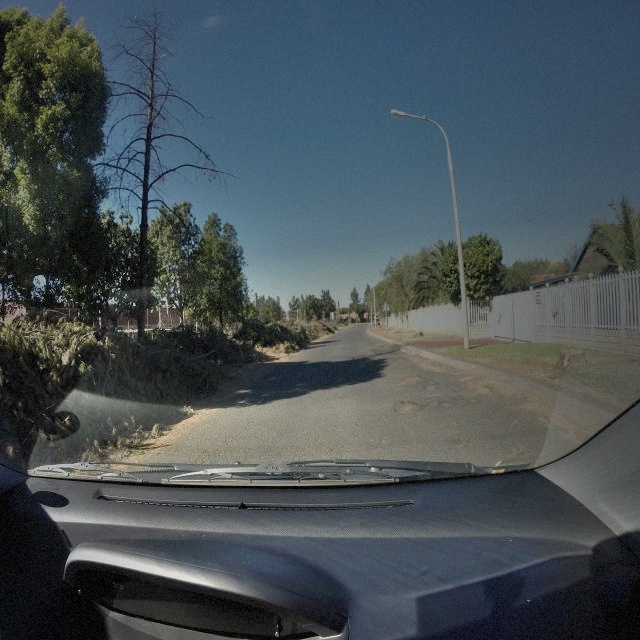pothole: (393, 401, 421, 416), (394, 374, 421, 387), (469, 387, 492, 397), (460, 376, 476, 382), (426, 402, 438, 409)
